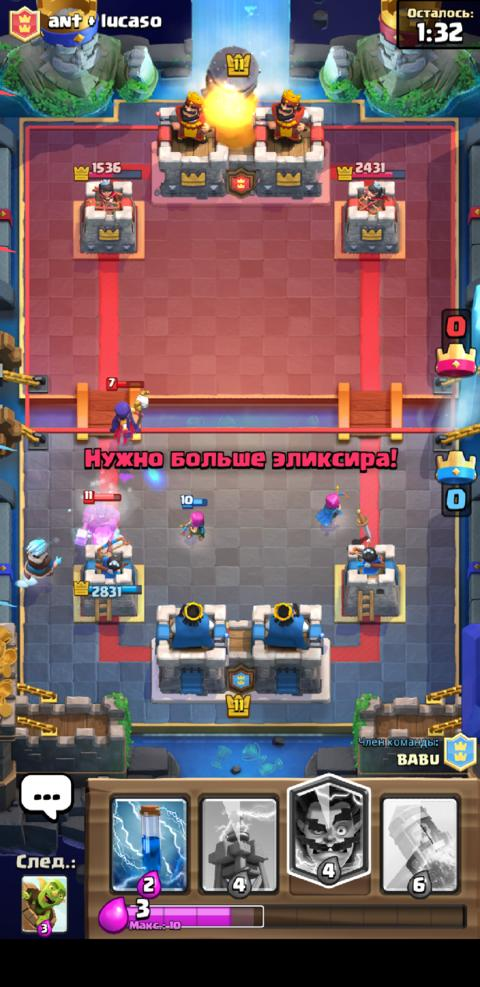ally_archer: (313, 483, 349, 529), (177, 492, 206, 542)
ally_ice_wizard: (22, 536, 62, 580)
enemy_hog_rider: (71, 488, 121, 548)
enemy_rocket: (200, 45, 259, 137)
enemy_witch: (103, 375, 151, 445)
